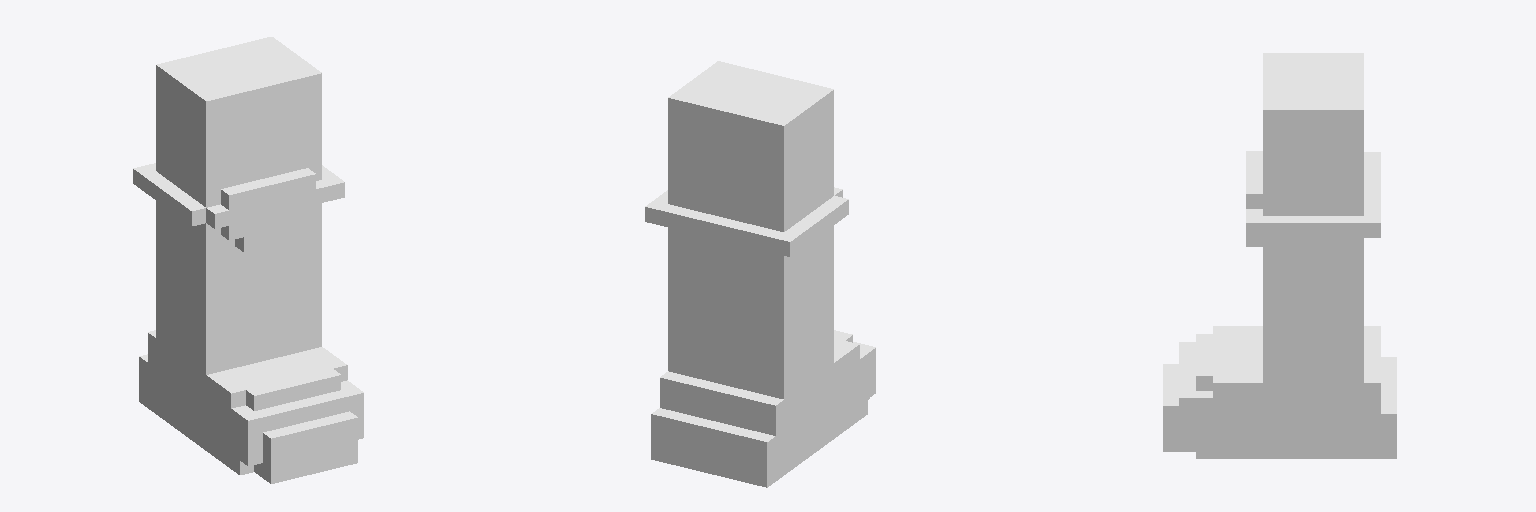
The model's file is Lucas-3.obj.
3 views of the same model, side by side, from view 1: azimuth 30°, elevation 25°; view 2: azimuth 150°, elevation 25°; view 3: azimuth 270°, elevation 25° (orthographic).
Parts seen in each view (by area): view 1: object 1; view 2: object 1; view 3: object 1.
Part boxes in pixels (bbox=[...]): object 1: bbox=[133, 37, 363, 483]; object 1: bbox=[645, 61, 875, 487]; object 1: bbox=[1163, 53, 1396, 458].
Size of the model in its own units: 1 by 2.3 by 1.4.